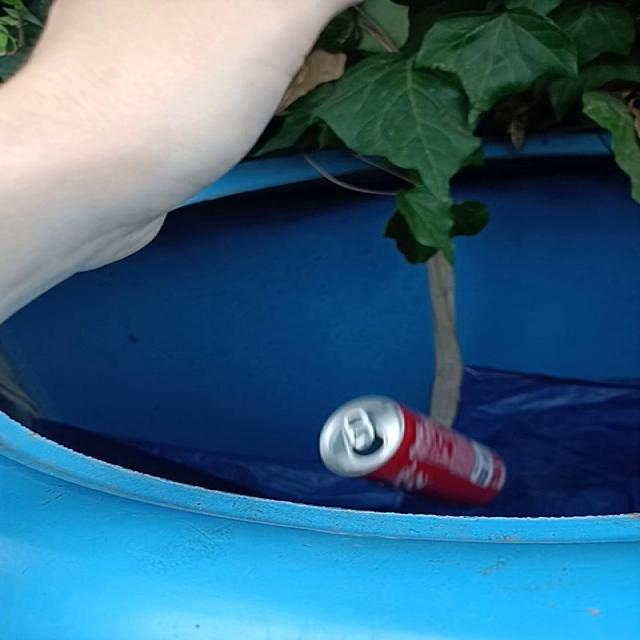metal: (320, 396, 507, 506)
